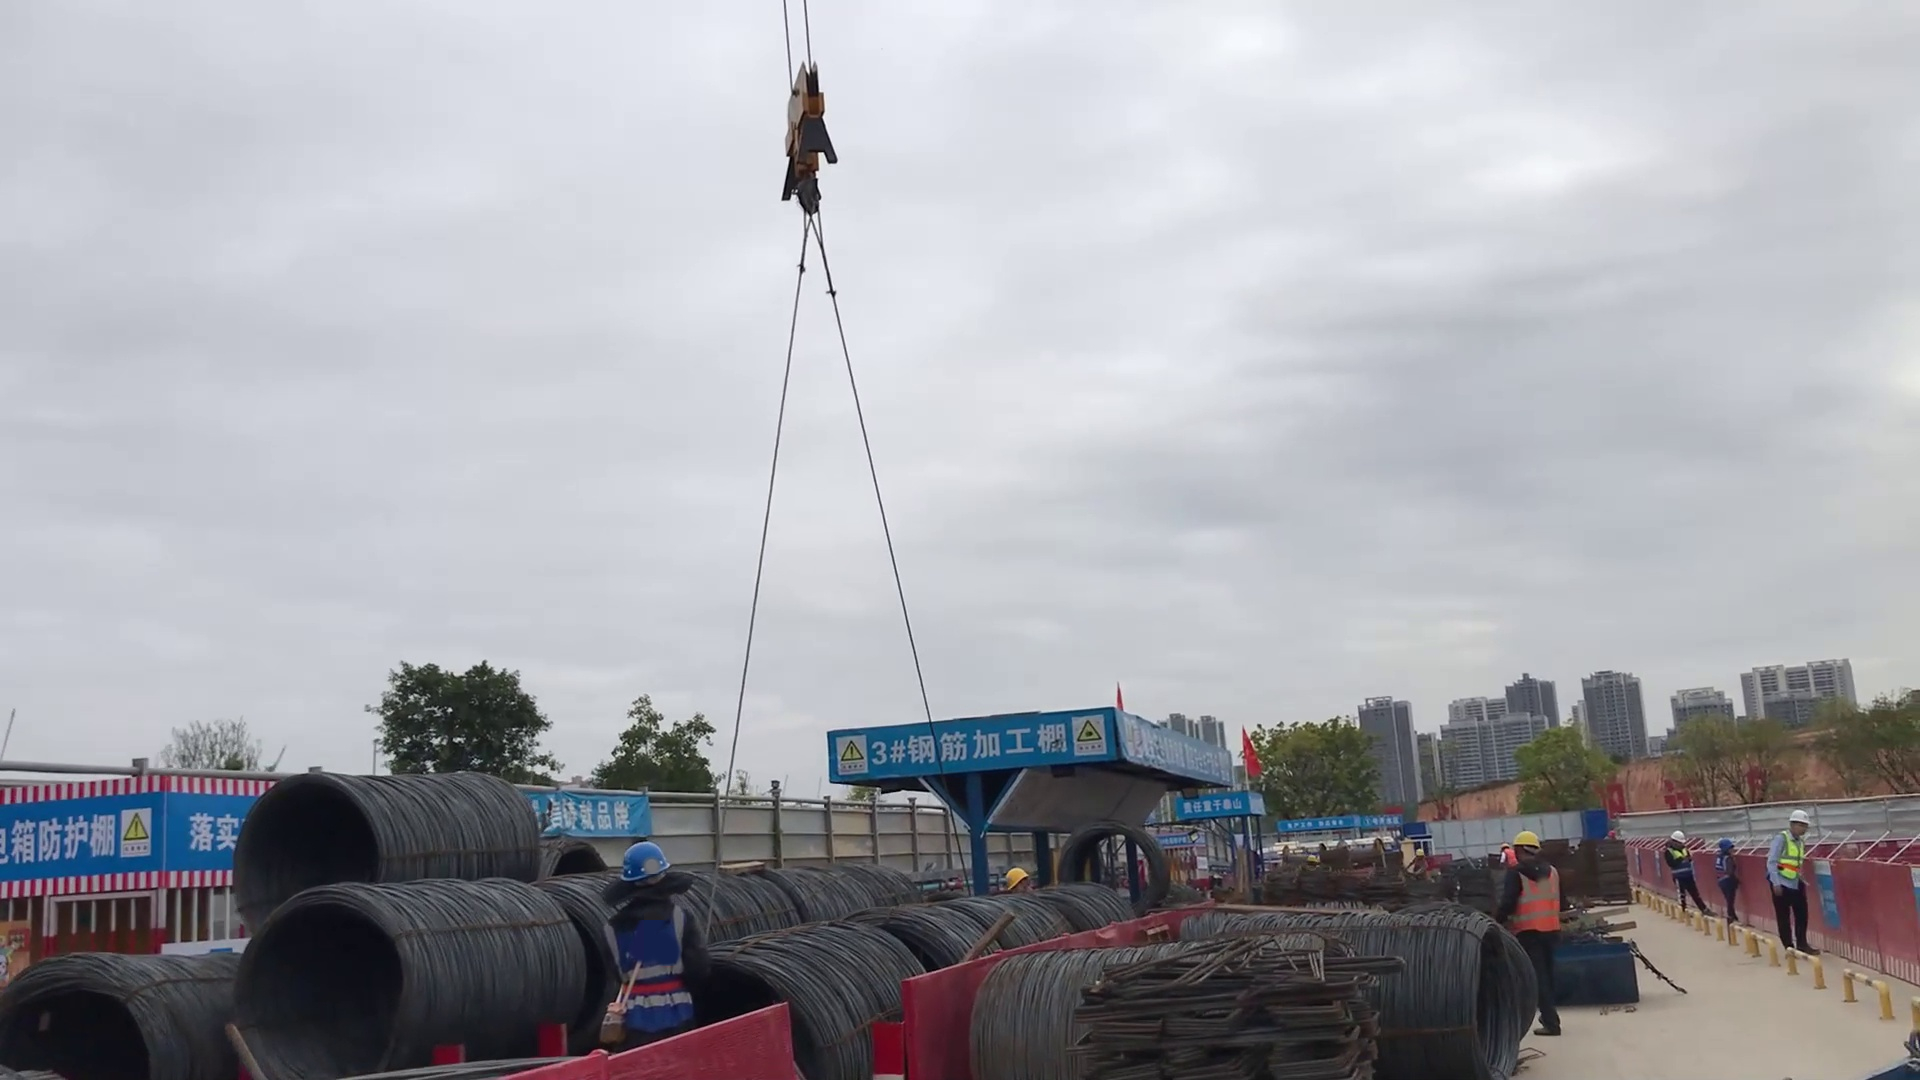helmet: (610, 839, 674, 884), (1502, 827, 1549, 851), (1786, 803, 1812, 829), (1669, 827, 1689, 841)
hook: (766, 63, 858, 217)
person: (597, 837, 709, 1044), (1495, 822, 1565, 1039), (1768, 808, 1818, 961), (1661, 825, 1719, 924), (1712, 835, 1742, 935)
slogan: (194, 790, 662, 845), (1182, 792, 1243, 818)
vest: (601, 900, 694, 1024), (1518, 865, 1562, 943), (1773, 830, 1800, 892)
